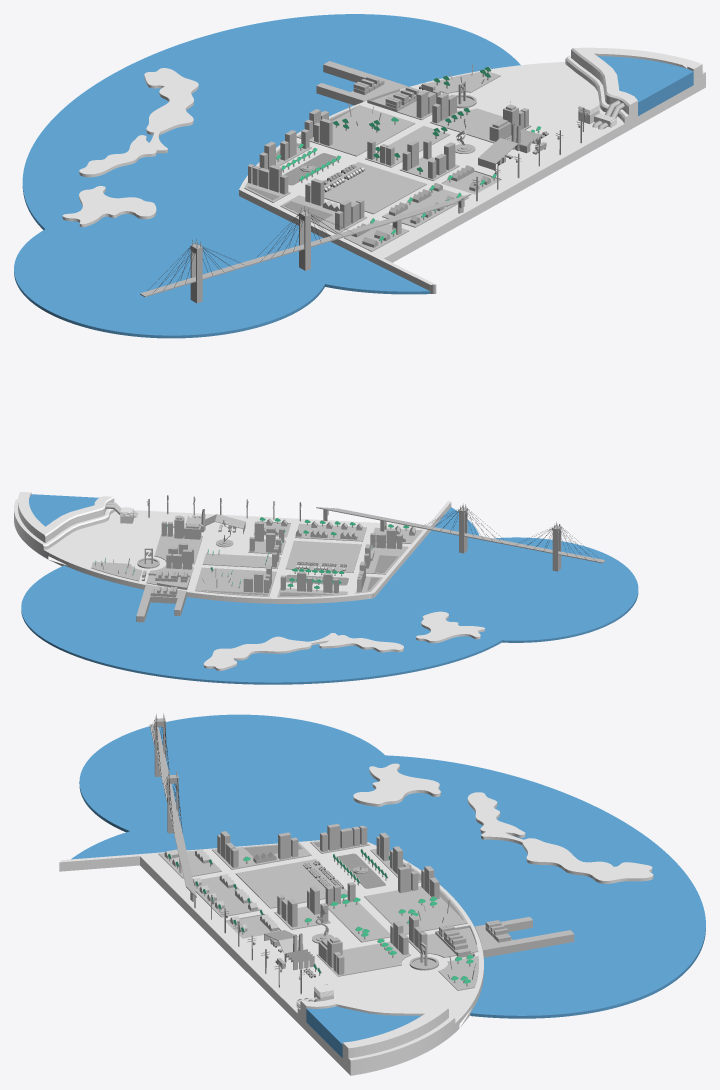
The model's file is escenario.gltf.
3 views of the same model, one above another, from view 1: azimuth 30°, elevation 25°; view 2: azimuth 150°, elevation 25°; view 3: azimuth 270°, elevation 25° (orthographic). The views are drawn at different scales.
Parts seen in each view (by area): view 1: Mesh (×13), instance-def_1-adbed5c3-fc5d-497f-b11d-edd8a6c48210, instance-def_1-ad5c9f54-eab5-4b09-aebd-a3060d0233ab, instance-def_2-ad5c9f54-eab5-4b09-aebd-a3060d0233ab; view 2: Mesh (×16), instance-def_1-adbed5c3-fc5d-497f-b11d-edd8a6c48210, instance-def_1-ad5c9f54-eab5-4b09-aebd-a3060d0233ab, instance-def_2-ad5c9f54-eab5-4b09-aebd-a3060d0233ab; view 3: Mesh (×18), instance-def_1-adbed5c3-fc5d-497f-b11d-edd8a6c48210, instance-def_1-ad5c9f54-eab5-4b09-aebd-a3060d0233ab.
Boxes of the visible parts, x1,y1,x2,y2 form: Mesh (×13): (14, 14, 705, 338); instance-def_1-adbed5c3-fc5d-497f-b11d-edd8a6c48210: (62, 68, 198, 227); instance-def_1-ad5c9f54-eab5-4b09-aebd-a3060d0233ab: (147, 239, 243, 303); instance-def_2-ad5c9f54-eab5-4b09-aebd-a3060d0233ab: (257, 206, 348, 270); Mesh (×16): (14, 492, 638, 684); instance-def_1-adbed5c3-fc5d-497f-b11d-edd8a6c48210: (203, 611, 484, 670); instance-def_1-ad5c9f54-eab5-4b09-aebd-a3060d0233ab: (519, 521, 597, 571); instance-def_2-ad5c9f54-eab5-4b09-aebd-a3060d0233ab: (425, 503, 503, 553); Mesh (×18): (59, 714, 705, 1075); instance-def_1-adbed5c3-fc5d-497f-b11d-edd8a6c48210: (353, 763, 653, 883); instance-def_1-ad5c9f54-eab5-4b09-aebd-a3060d0233ab: (150, 713, 169, 776).
Size of the model in its own units: 48.4 by 8.86 by 39.49.
